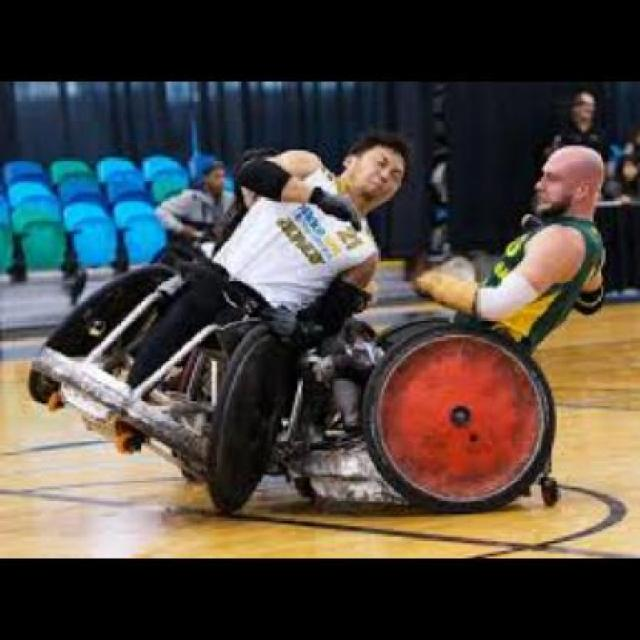wheelchairs: (27, 242, 290, 513), (302, 325, 560, 523)
